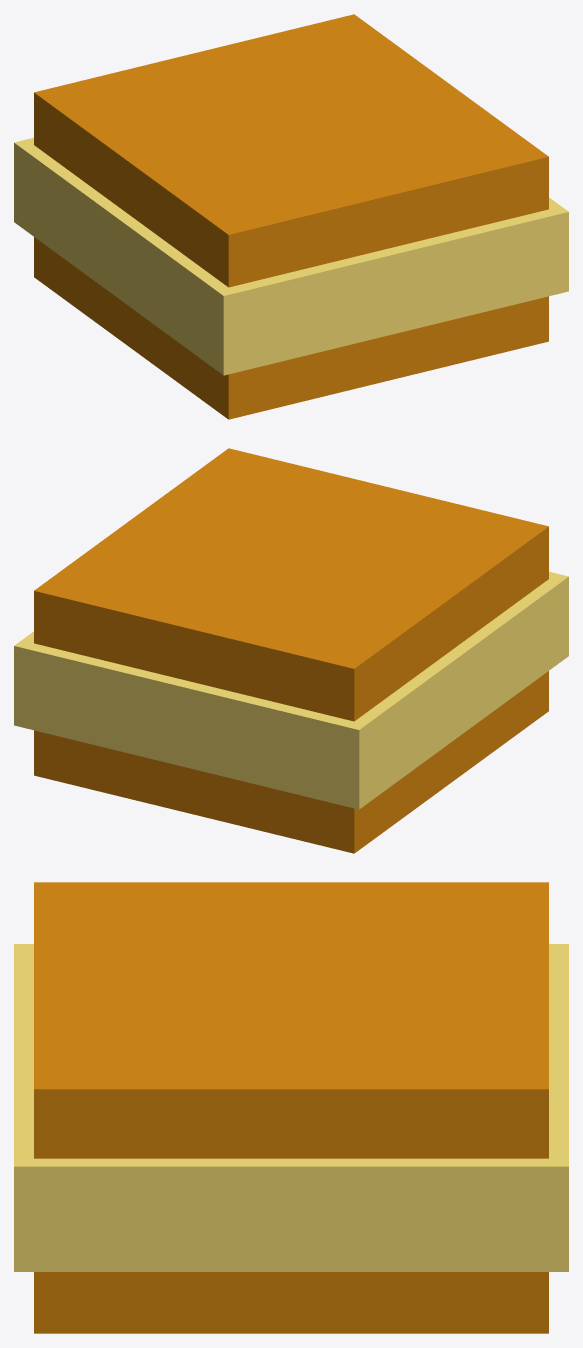
File: Bracer 02.FBX
3 views of the same model, one above another, from view 1: azimuth 30°, elevation 25°; view 2: azimuth 150°, elevation 25°; view 3: azimuth 270°, elevation 25° (orthographic). The views are drawn at different scales.
Visible parts, largest first — view 1: Bracer 02; view 2: Bracer 02; view 3: Bracer 02.
Boxes of the visible parts, bbox=[...] form: Bracer 02: bbox=[14, 14, 568, 419]; Bracer 02: bbox=[14, 448, 568, 853]; Bracer 02: bbox=[14, 882, 568, 1333].
Bounding box in the file's own units: 18.6 × 9.51 × 19.58.
